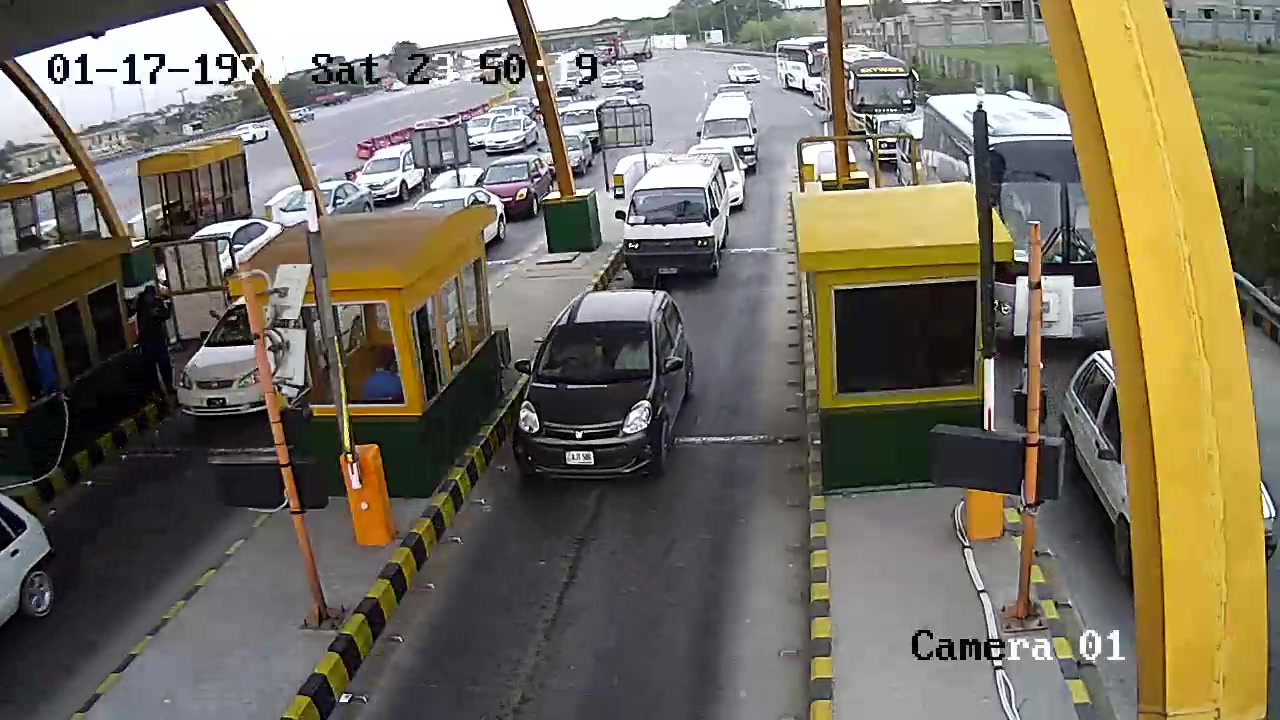F1: (511, 285, 700, 489)
